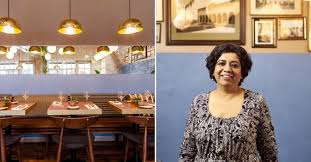middle_eastern_Female: (212, 46, 247, 91)
